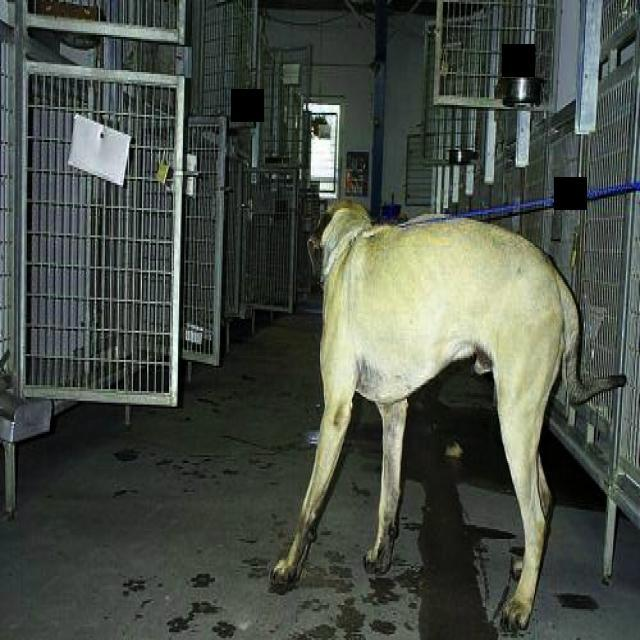adult_dog: (268, 198, 583, 630)
